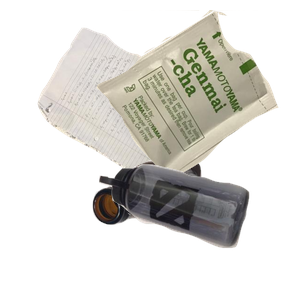glass: (90, 148, 300, 300)
paper: (35, 25, 232, 204)
plastic: (97, 162, 300, 300)
trash: (91, 10, 300, 186)
